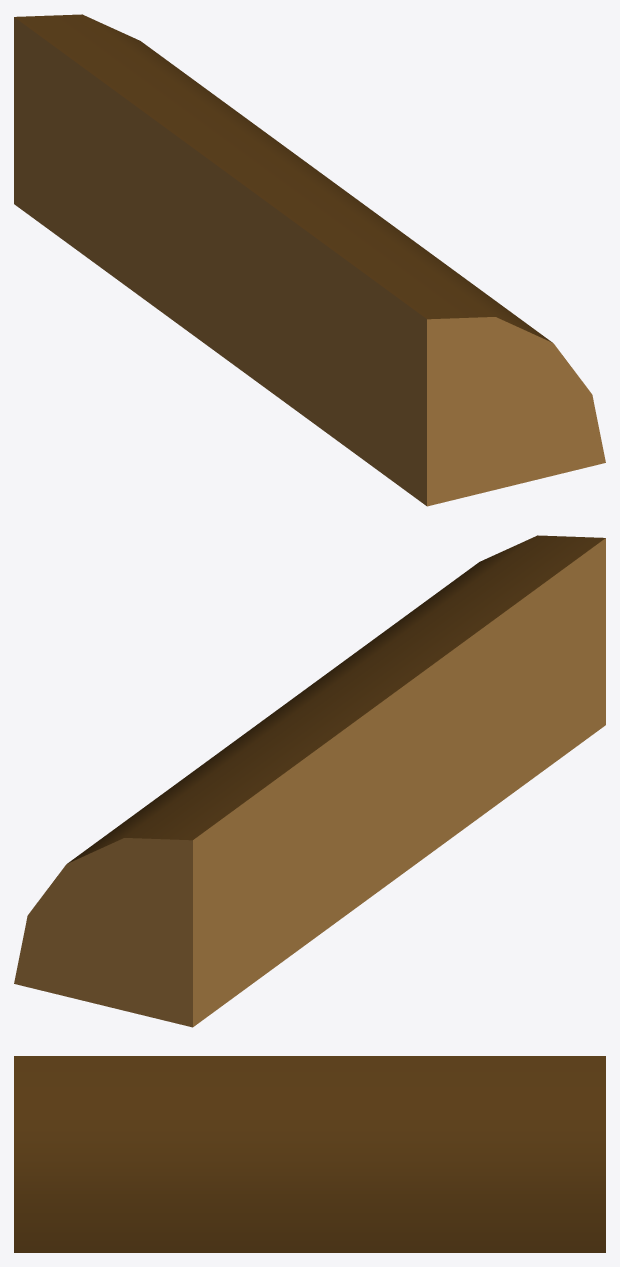
File: FireWood.fbx
3 views of the same model, one above another, from view 1: azimuth 30°, elevation 25°; view 2: azimuth 150°, elevation 25°; view 3: azimuth 270°, elevation 25° (orthographic). The views are drawn at different scales.
Visible parts, largest first — view 1: FireWood; view 2: FireWood; view 3: FireWood.
Boxes of the visible parts, left/top/right/bottom form: FireWood: left=14, top=14, right=605, bottom=506; FireWood: left=14, top=535, right=605, bottom=1027; FireWood: left=14, top=1056, right=605, bottom=1252.
Bounding box in the file's own units: 50 × 50 × 200.
